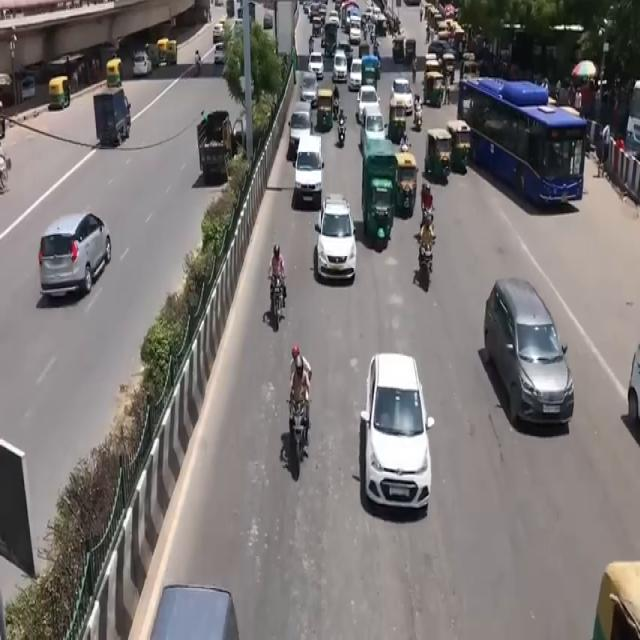BUS: (459, 70, 584, 220)
MOTORCYCLE: (287, 396, 310, 481), (270, 274, 286, 334), (419, 241, 435, 296)
